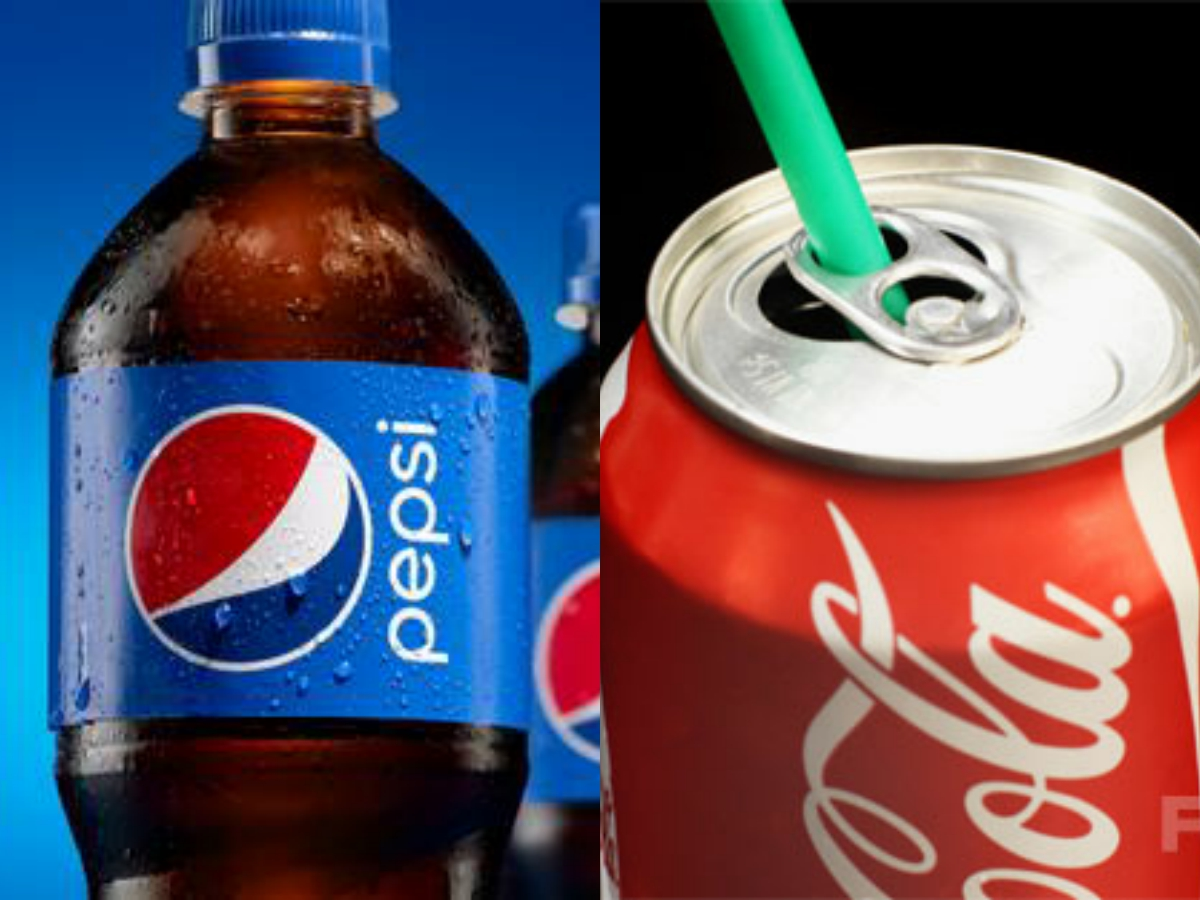pepsi: (134, 404, 364, 662), (129, 411, 364, 662), (134, 411, 364, 662)
